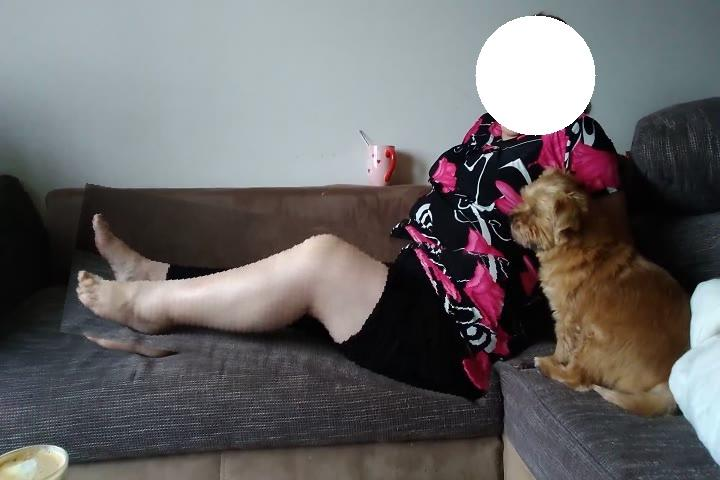lowerbody: (66, 202, 508, 389)
